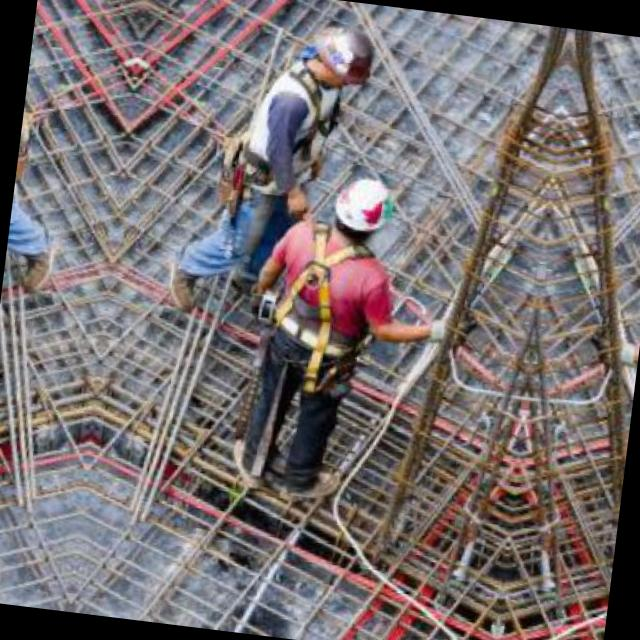helmet: (298, 18, 382, 94), (324, 174, 394, 244)
